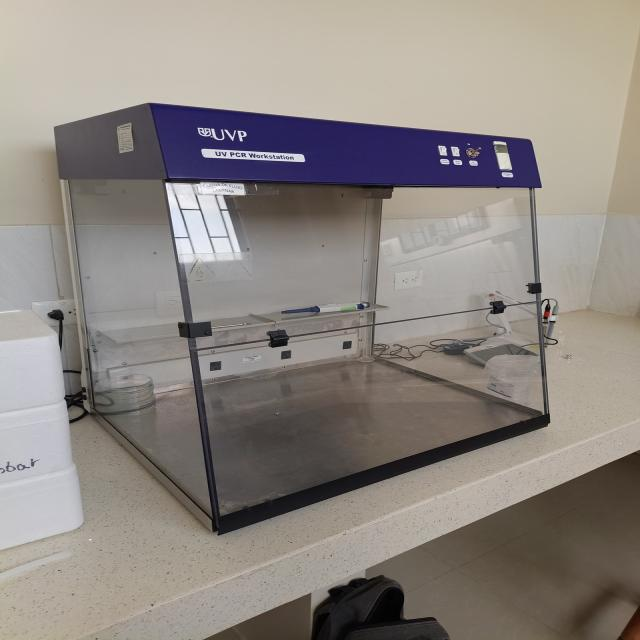Cabina de Flujo Laminar: (55, 103, 557, 534)
